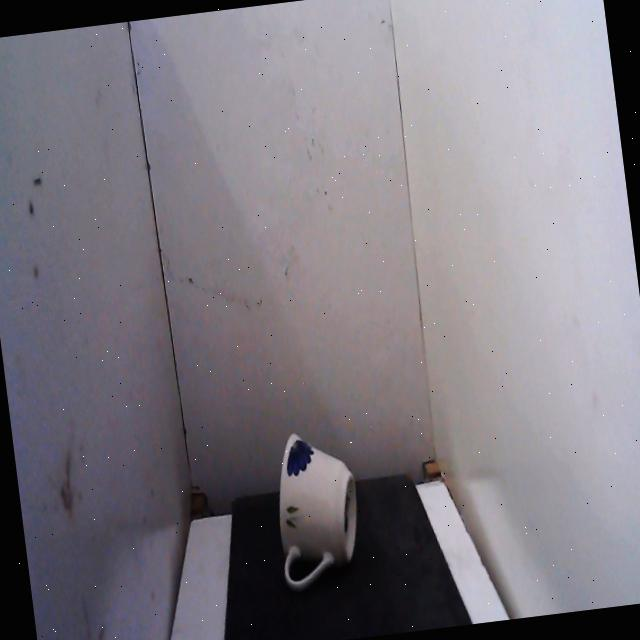vidro: (263, 416, 372, 598)
